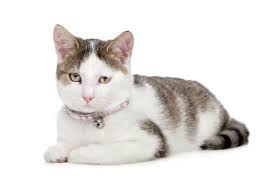Gato: (49, 21, 197, 161)
